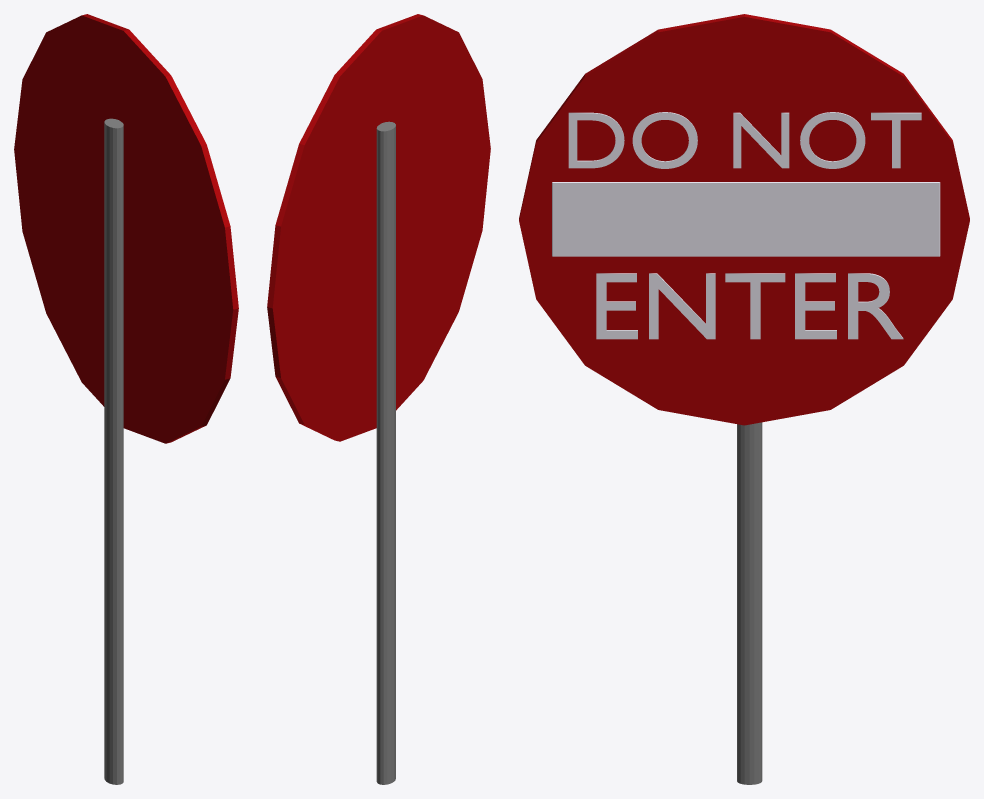
Rendered from DNESign.fbx.
3 views of the same model, side by side, from view 1: azimuth 30°, elevation 25°; view 2: azimuth 150°, elevation 25°; view 3: azimuth 270°, elevation 25° (orthographic). The views are drawn at different scales.
Visible parts, largest first — view 1: ENTER; view 2: ENTER; view 3: ENTER.
Boxes of the visible parts, x1,y1,x2,y2 form: ENTER: (14,14,238,784); ENTER: (267,14,490,784); ENTER: (519,14,969,784).
Bounding box in the file's own units: 11.55 × 377 × 200.
